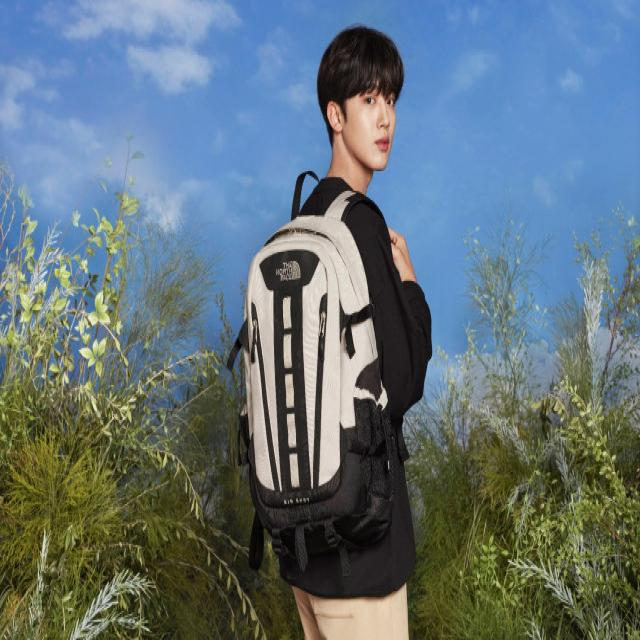backpack: (230, 199, 403, 558)
